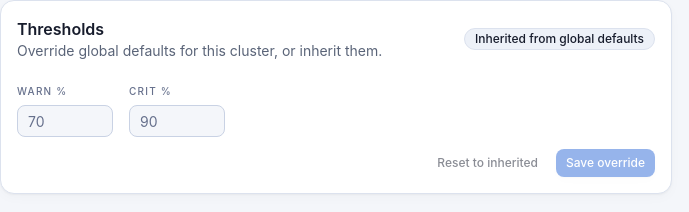
Test case: <ThresholdOverridesForm> › flips source pill to "Cluster override" after saving
The width and height of the screenshot is (689, 212).
Type "60" into the number field labelled "Warn %" at x=65, y=121, box [17,105,113,137]
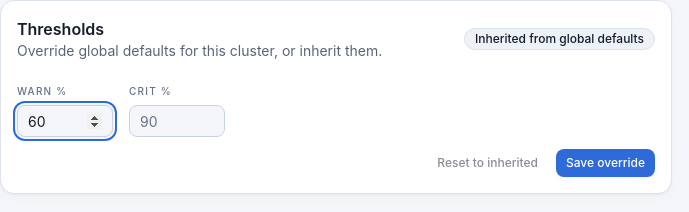
Click the button "Save override" at x=605, y=163, box [556,149,655,177]
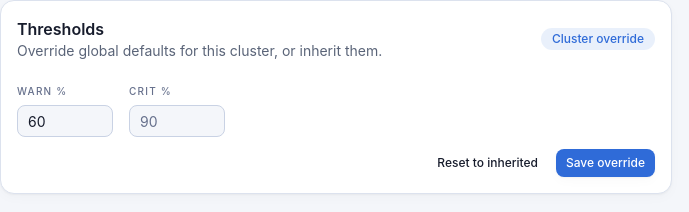
Result: the text "Cluster override" is shown at [541,28,655,50]
